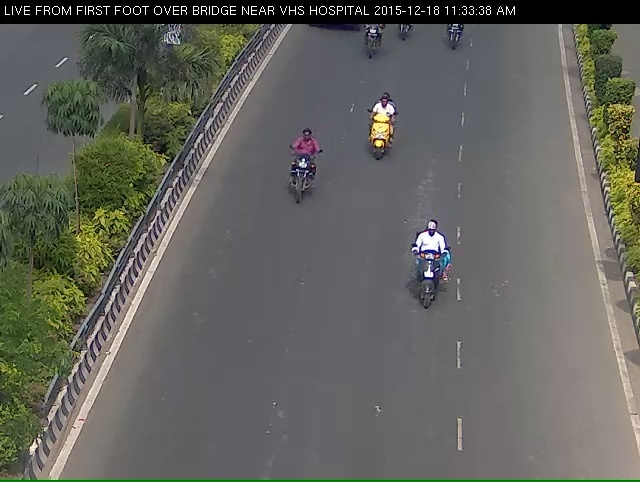Person: (407, 230, 456, 327), (280, 136, 315, 235), (362, 100, 402, 181), (358, 11, 382, 74)
